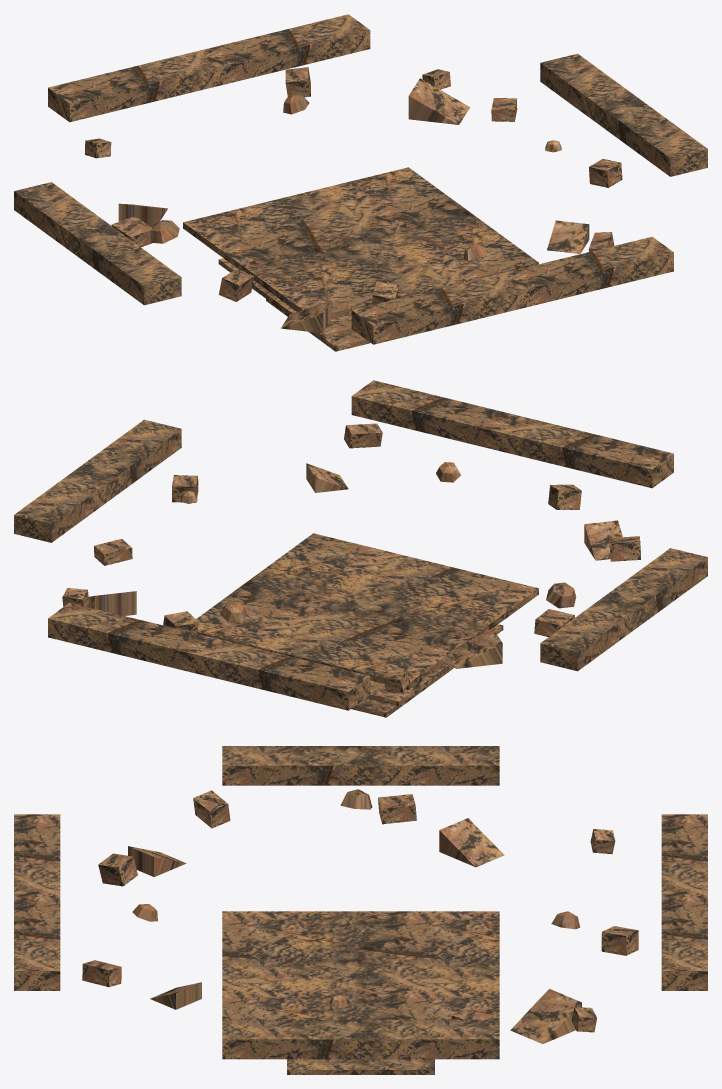
File: chasm.glb
3 views of the same model, one above another, from view 1: azimuth 30°, elevation 25°; view 2: azimuth 150°, elevation 25°; view 3: azimuth 270°, elevation 25° (orthographic). The views are drawn at different scales.
Parts seen in each view (by area): view 1: Void, EdgeS, EdgeN, EdgeE, EdgeW, Ramp_0, Ramp_2, DeepVoid1, Ramp_1, Crumble_8, Crumble_6, Crumble_7 (+5 smaller); view 2: Void, EdgeN, EdgeS, EdgeE, EdgeW, Ramp_3, DeepVoid1, Ramp_1, Ramp_0, Crumble_4, Ramp_2, Crumble_5 (+7 smaller); view 3: Void, EdgeE, EdgeW, EdgeN, EdgeS, DeepVoid2, Ramp_0, Ramp_3, Crumble_7, Ramp_1, Crumble_3, Crumble_8 (+5 smaller).
Part boxes in pixels (x1=…): Void: x1=183, y1=167, x2=538, y2=319; EdgeS: x1=351, y1=236, x2=673, y2=344; EdgeN: x1=48, y1=14, x2=370, y2=122; EdgeE: x1=540, y1=53, x2=707, y2=176; EdgeW: x1=14, y1=182, x2=181, y2=305; Ramp_0: x1=408, y1=78, x2=469, y2=124; Ramp_2: x1=547, y1=220, x2=589, y2=253; DeepVoid1: x1=218, y1=258, x2=355, y2=340; Ramp_1: x1=281, y1=300, x2=331, y2=333; Crumble_8: x1=219, y1=269, x2=254, y2=301; Crumble_6: x1=589, y1=159, x2=622, y2=187; Crumble_7: x1=111, y1=216, x2=152, y2=247; Void: x1=196, y1=533, x2=538, y2=689; EdgeN: x1=48, y1=602, x2=370, y2=710; EdgeS: x1=351, y1=380, x2=673, y2=488; EdgeE: x1=14, y1=419, x2=181, y2=542; EdgeW: x1=540, y1=548, x2=707, y2=671; Ramp_3: x1=446, y1=628, x2=502, y2=668; DeepVoid1: x1=366, y1=624, x2=503, y2=706; Ramp_1: x1=584, y1=520, x2=622, y2=560; Ramp_0: x1=87, y1=591, x2=136, y2=615; Crumble_4: x1=344, y1=423, x2=382, y2=448; Ramp_2: x1=306, y1=463, x2=348, y2=492; Crumble_5: x1=94, y1=539, x2=132, y2=565; Void: x1=222, y1=911, x2=499, y2=1019; EdgeE: x1=222, y1=1019, x2=499, y2=1059; EdgeW: x1=222, y1=746, x2=499, y2=785; EdgeN: x1=661, y1=814, x2=707, y2=990; EdgeS: x1=14, y1=814, x2=60, y2=990; DeepVoid2: x1=287, y1=1059, x2=434, y2=1074; Ramp_0: x1=510, y1=989, x2=581, y2=1043; Ramp_3: x1=439, y1=818, x2=504, y2=867; Crumble_7: x1=378, y1=794, x2=416, y2=824; Ramp_1: x1=128, y1=846, x2=186, y2=876; Crumble_3: x1=98, y1=853, x2=137, y2=886; Crumble_8: x1=193, y1=790, x2=230, y2=828.
Size of the model in its own units: 1.88 by 0.45 by 1.88.
Materials: 24 (24 with a texture image).
